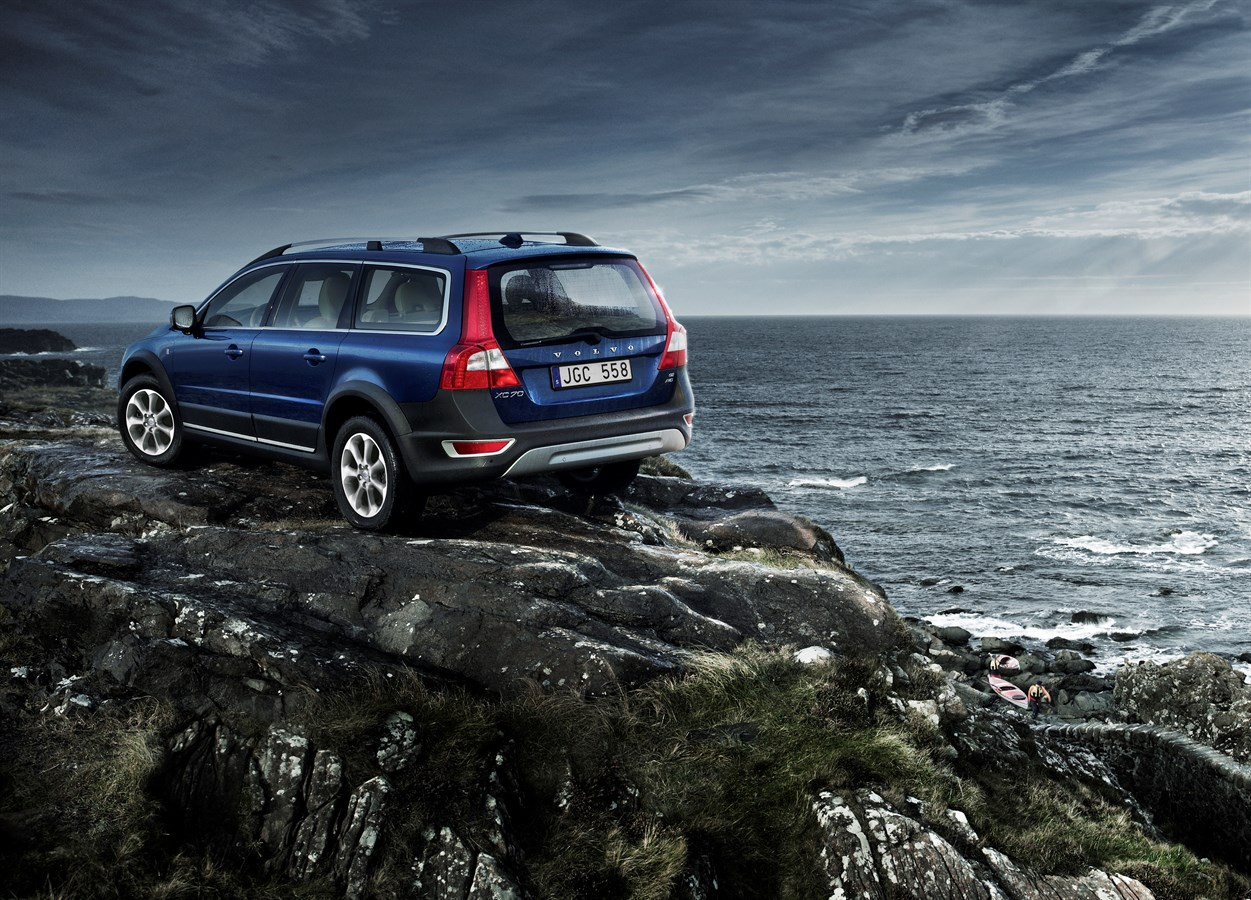other: (105, 213, 706, 514)
